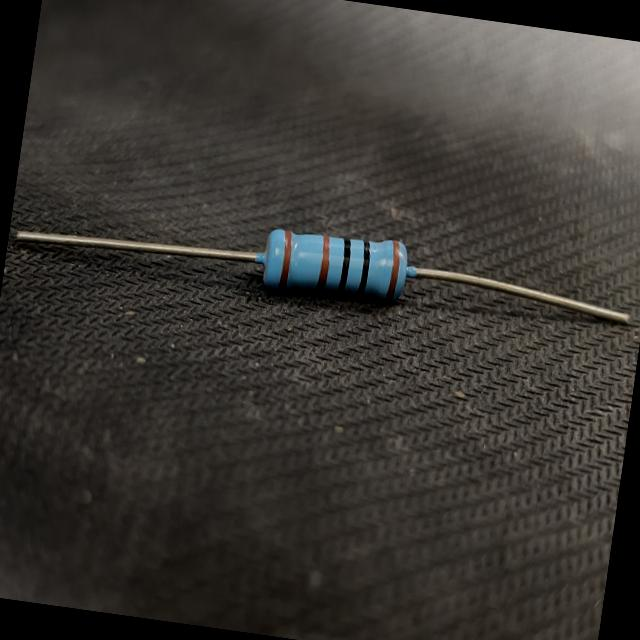resistor: (8, 180, 640, 357)
